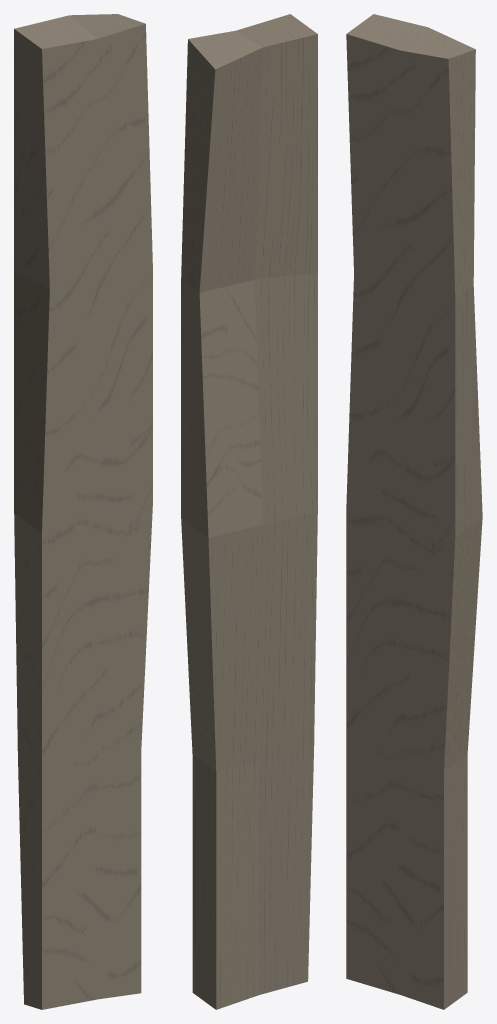
File: Tablon4.fbx
The picture shows the model from 3 angles, left to right: view 1: azimuth 30°, elevation 25°; view 2: azimuth 210°, elevation 25°; view 3: azimuth 330°, elevation 25°; orthographic projection.
Parts seen in each view (by area): view 1: Cube.012; view 2: Cube.012; view 3: Cube.012.
Boxes of the visible parts, left/top/right/bottom form: Cube.012: left=14, top=14, right=152, bottom=1009; Cube.012: left=181, top=14, right=317, bottom=1009; Cube.012: left=346, top=14, right=482, bottom=1009.
Bounding box in the file's own units: 105 × 877 × 45.63.
